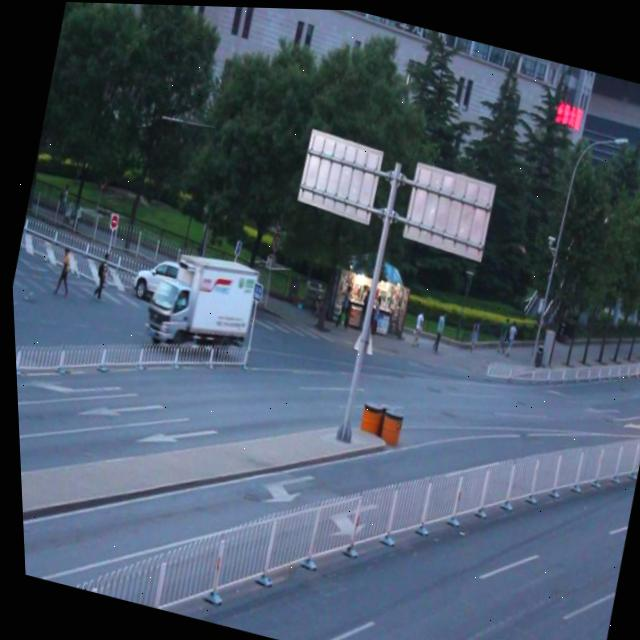bus: (136, 238, 261, 361)
car: (125, 247, 203, 312)
